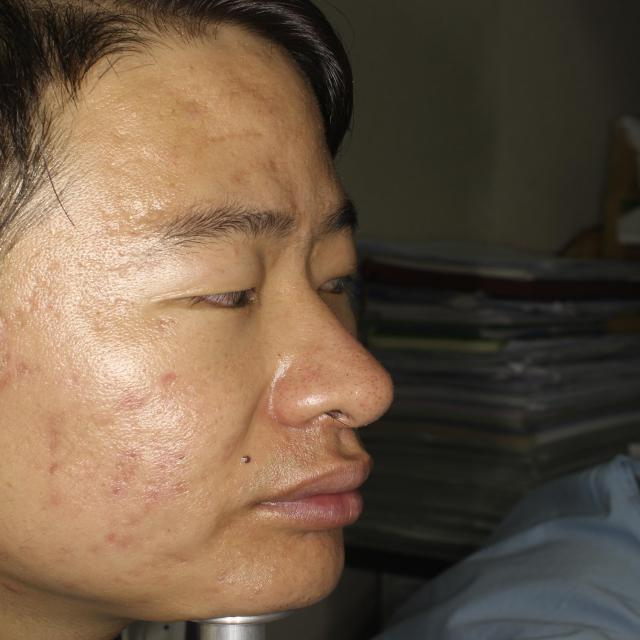pustule: (115, 374, 161, 418), (5, 356, 35, 380), (48, 480, 73, 508), (152, 368, 182, 390), (119, 442, 145, 467), (44, 447, 70, 472), (144, 482, 161, 510), (155, 456, 177, 475), (117, 523, 133, 543), (104, 526, 117, 540)
